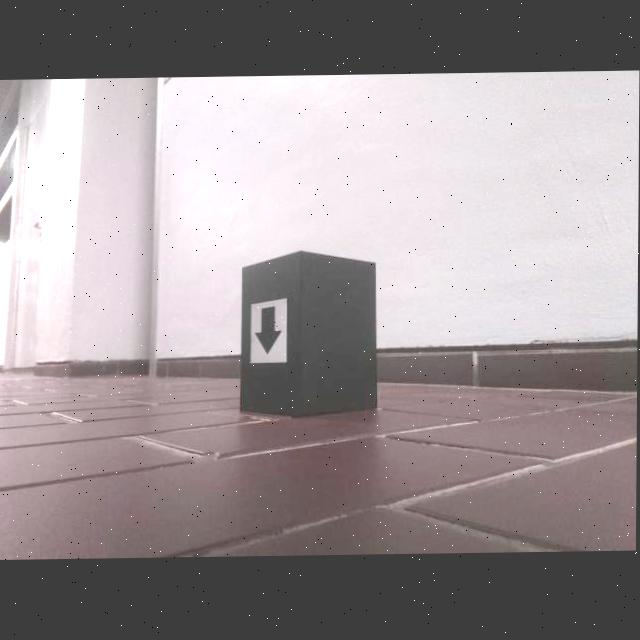DOWN: (254, 307, 283, 356)
